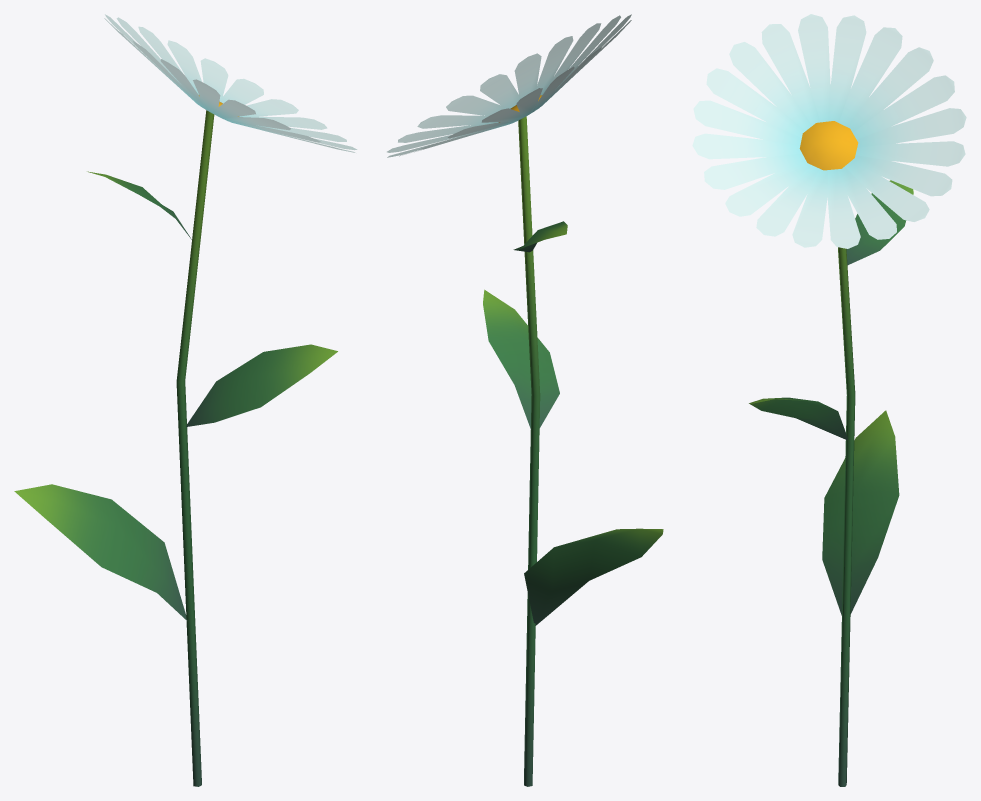
The model's file is flower12.glb.
3 renders of one model, left to right at view 1: azimuth 30°, elevation 25°; view 2: azimuth 150°, elevation 25°; view 3: azimuth 270°, elevation 25°, orthographic. The views are drawn at different scales.
Parts seen in each view (by area): view 1: Flower.013; view 2: Flower.013; view 3: Flower.013.
Boxes of the visible parts, bbox=[...] form: Flower.013: bbox=[14, 14, 357, 786]; Flower.013: bbox=[387, 14, 663, 786]; Flower.013: bbox=[692, 14, 966, 786].
Bounding box in the file's own units: 0.8533 × 2.17 × 0.7341.
Materials: 1 (1 with a texture image).
